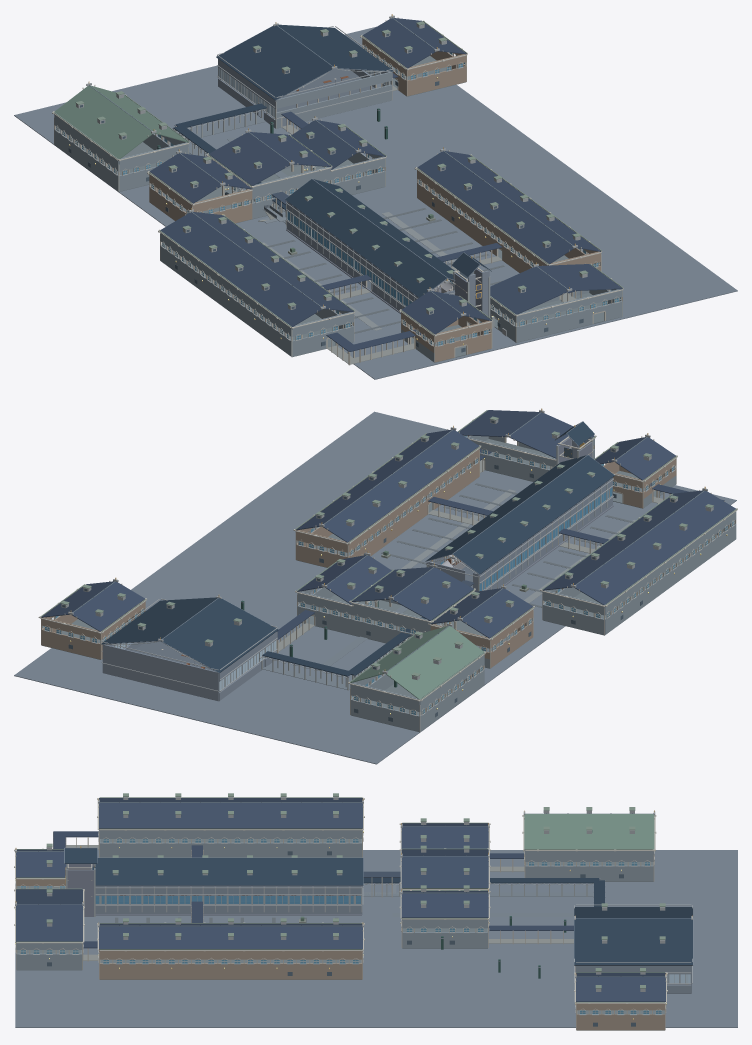
The model's file is lahudi-academy_EXTERIOR-GOTHIC-FINISH_V11.glb.
3 renders of one model, top to bottom at view 1: azimuth 30°, elevation 25°; view 2: azimuth 150°, elevation 25°; view 3: azimuth 270°, elevation 25°, orthographic.
Visible parts, largest first — view 1: RG-GAME-02-EXTERIOR-REBUILD-V5__winter_campus_snowbase, RG-GAME-02-EXTERIOR-REBUILD-V5__academic_high_gable_slate_ro (×2), RG-GAME-02-EXTERIOR-REBUILD-V5__library_high_gable_slate_roo (×2), RG-GAME-02-PLAN-LOCK-V9__B_WEST_side_0, RG-GAME-02-PLAN-LOCK-V9__C_EAST_side_0, RG-GAME-02-PLAN-LOCK-V9__G_ASSEMBLY_side_0, RG-GAME-02-PLAN-LOCK-V9__B_WEST_side_1, RG-GAME-02-PLAN-LOCK-V9__B_WEST_west_wall_band_-68.00_24.00 (×2), RG-GAME-02-PLAN-LOCK-V9__E_CENTER_HALL_side_0, RG-GAME-02-PLAN-LOCK-V9__D_EAST_ENTRY_side_0, RG-GAME-02-PLAN-LOCK-V9__C_EAST_west_wall_band_-68.00_24.00 (×2), RG-GAME-02-PLAN-LOCK-V9__F_LIBRARY_SOUTH_REPLACEMENT_wall_ba (×2) (+34 smaller); view 2: RG-GAME-02-EXTERIOR-REBUILD-V5__winter_campus_snowbase, RG-GAME-02-EXTERIOR-REBUILD-V5__academic_high_gable_slate_ro (×2), RG-GAME-02-EXTERIOR-REBUILD-V5__library_high_gable_slate_roo (×2), RG-GAME-02-PLAN-LOCK-V9__B_WEST_side_0, RG-GAME-02-PLAN-LOCK-V9__C_EAST_side_0, RG-GAME-02-EXTERIOR-REBUILD-V5__library_endwall_north, RG-GAME-02-PLAN-LOCK-V9__G_ASSEMBLY_side_0, RG-GAME-02-PLAN-LOCK-V9__B_WEST_side_1, RG-GAME-02-PLAN-LOCK-V9__B_WEST_west_wall_band_-68.00_24.00 (×2), RG-GAME-02-PLAN-LOCK-V9__E_CENTER_HALL_side_0, RG-GAME-02-PLAN-LOCK-V9__C_EAST_west_wall_band_-68.00_24.00 (×2), RG-GAME-02-PLAN-LOCK-V9__C_EAST_side_1 (+35 smaller); view 3: RG-GAME-02-EXTERIOR-REBUILD-V5__winter_campus_snowbase, RG-GAME-02-EXTERIOR-REBUILD-V5__academic_high_gable_slate_ro, RG-GAME-02-PLAN-LOCK-V9__B_WEST_side_1, RG-GAME-02-EXTERIOR-REBUILD-V5__library_high_gable_slate_roo (×2), RG-GAME-02-PLAN-LOCK-V9__C_EAST_side_1, RG-GAME-02-PLAN-LOCK-V9__G_ASSEMBLY_side_1, RG-GAME-02-PLAN-LOCK-V9__C_EAST_east_wall_band_-68.00_24.00 (×2), RG-GAME-02-PLAN-LOCK-V9__B_WEST_east_wall_band_-68.00_24.00 (×2), RG-GAME-02-PLAN-LOCK-V9__E_CENTER_HALL_side_1, RG-GAME-02-PLAN-LOCK-V9__C_EAST_east_low_wall_-68.00_24.00, RG-GAME-02-PLAN-LOCK-V9__D_EAST_ENTRY_side_1, RG-GAME-02-PLAN-LOCK-V9__G_ASSEMBLY_east_wall_band_-170.00_- (×2) (+41 smaller).
Boxes of the visible parts, bbox=[...] form: RG-GAME-02-EXTERIOR-REBUILD-V5__winter_campus_snowbase: bbox=[14, 26, 737, 379]; RG-GAME-02-EXTERIOR-REBUILD-V5__academic_high_gable_slate_ro (×2): bbox=[285, 179, 465, 297]; RG-GAME-02-EXTERIOR-REBUILD-V5__library_high_gable_slate_roo (×2): bbox=[216, 24, 393, 100]; RG-GAME-02-PLAN-LOCK-V9__B_WEST_side_0: bbox=[160, 212, 322, 326]; RG-GAME-02-PLAN-LOCK-V9__C_EAST_side_0: bbox=[417, 151, 574, 264]; RG-GAME-02-PLAN-LOCK-V9__G_ASSEMBLY_side_0: bbox=[54, 86, 153, 159]; RG-GAME-02-PLAN-LOCK-V9__B_WEST_side_1: bbox=[193, 212, 353, 312]; RG-GAME-02-PLAN-LOCK-V9__B_WEST_west_wall_band_-68.00_24.00 (×2): bbox=[160, 231, 291, 347]; RG-GAME-02-PLAN-LOCK-V9__E_CENTER_HALL_side_0: bbox=[209, 132, 290, 185]; RG-GAME-02-PLAN-LOCK-V9__D_EAST_ENTRY_side_0: bbox=[490, 266, 567, 314]; RG-GAME-02-PLAN-LOCK-V9__C_EAST_west_wall_band_-68.00_24.00 (×2): bbox=[417, 168, 548, 269]; RG-GAME-02-PLAN-LOCK-V9__F_LIBRARY_SOUTH_REPLACEMENT_wall_ba (×2): bbox=[276, 72, 392, 119]; RG-GAME-02-EXTERIOR-REBUILD-V5__winter_campus_snowbase: bbox=[14, 411, 736, 764]; RG-GAME-02-EXTERIOR-REBUILD-V5__academic_high_gable_slate_ro (×2): bbox=[426, 455, 614, 574]; RG-GAME-02-EXTERIOR-REBUILD-V5__library_high_gable_slate_roo (×2): bbox=[101, 597, 278, 672]; RG-GAME-02-PLAN-LOCK-V9__B_WEST_side_0: bbox=[574, 491, 735, 605]; RG-GAME-02-PLAN-LOCK-V9__C_EAST_side_0: bbox=[322, 430, 479, 542]; RG-GAME-02-EXTERIOR-REBUILD-V5__library_endwall_north: bbox=[102, 644, 219, 701]; RG-GAME-02-PLAN-LOCK-V9__G_ASSEMBLY_side_0: bbox=[386, 626, 483, 699]; RG-GAME-02-PLAN-LOCK-V9__B_WEST_side_1: bbox=[542, 490, 703, 590]; RG-GAME-02-PLAN-LOCK-V9__B_WEST_west_wall_band_-68.00_24.00 (×2): bbox=[604, 509, 736, 625]; RG-GAME-02-PLAN-LOCK-V9__E_CENTER_HALL_side_0: bbox=[392, 567, 473, 620]; RG-GAME-02-PLAN-LOCK-V9__C_EAST_west_wall_band_-68.00_24.00 (×2): bbox=[348, 447, 479, 557]; RG-GAME-02-PLAN-LOCK-V9__C_EAST_side_1: bbox=[296, 429, 451, 530]; RG-GAME-02-EXTERIOR-REBUILD-V5__winter_campus_snowbase: bbox=[15, 850, 737, 1027]; RG-GAME-02-EXTERIOR-REBUILD-V5__academic_high_gable_slate_ro: bbox=[92, 858, 363, 885]; RG-GAME-02-PLAN-LOCK-V9__B_WEST_side_1: bbox=[99, 802, 362, 828]; RG-GAME-02-EXTERIOR-REBUILD-V5__library_high_gable_slate_roo (×2): bbox=[574, 907, 692, 965]; RG-GAME-02-PLAN-LOCK-V9__C_EAST_side_1: bbox=[99, 926, 362, 949]; RG-GAME-02-PLAN-LOCK-V9__G_ASSEMBLY_side_1: bbox=[524, 814, 654, 848]; RG-GAME-02-PLAN-LOCK-V9__C_EAST_east_wall_band_-68.00_24.00 (×2): bbox=[99, 951, 362, 970]; RG-GAME-02-PLAN-LOCK-V9__B_WEST_east_wall_band_-68.00_24.00 (×2): bbox=[99, 830, 362, 849]; RG-GAME-02-PLAN-LOCK-V9__E_CENTER_HALL_side_1: bbox=[401, 856, 488, 888]; RG-GAME-02-PLAN-LOCK-V9__C_EAST_east_low_wall_-68.00_24.00: bbox=[99, 970, 362, 979]; RG-GAME-02-PLAN-LOCK-V9__D_EAST_ENTRY_side_1: bbox=[16, 904, 82, 941]; RG-GAME-02-PLAN-LOCK-V9__G_ASSEMBLY_east_wall_band_-170.00_- (×2): bbox=[525, 851, 653, 872].
Size of the model in its own units: 169 by 26.24 by 253.
